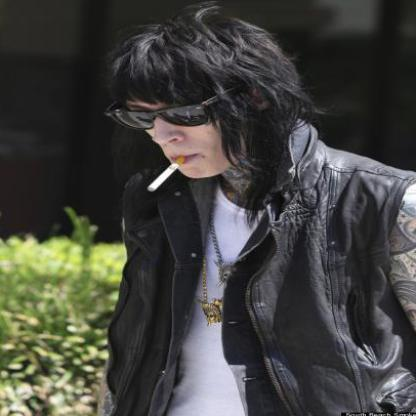cigarette: (144, 155, 186, 194)
person: (89, 6, 415, 415)
